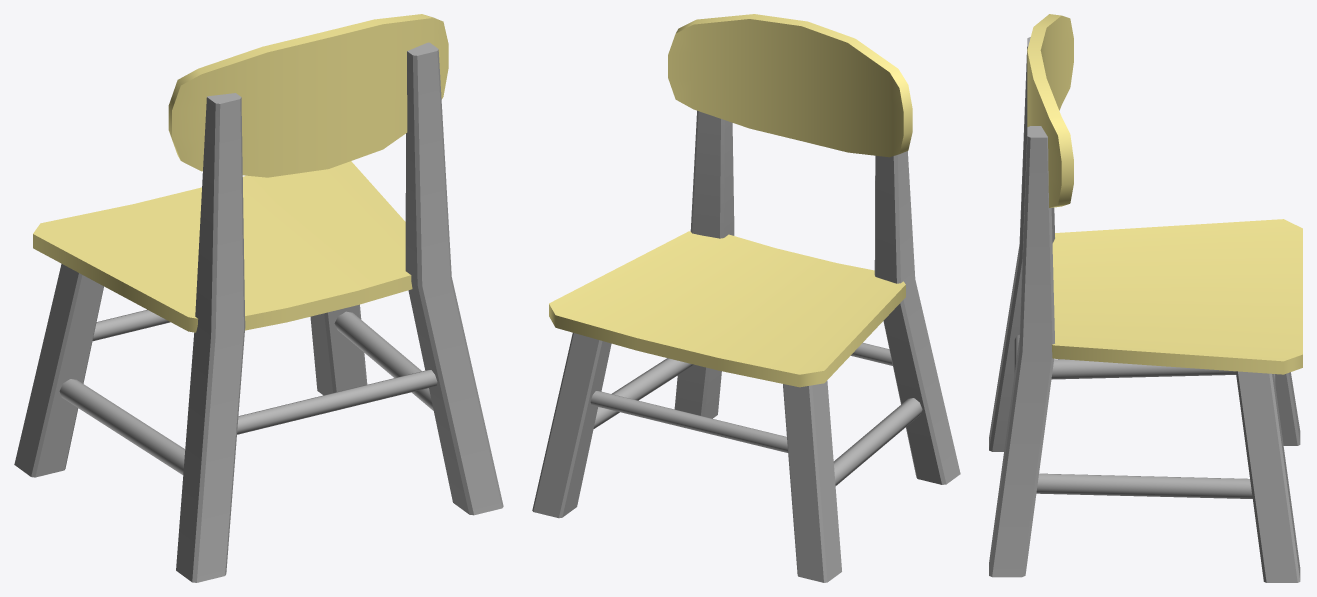
The model's file is chaise_2.fbx.
3 renders of one model, left to right at view 1: azimuth 30°, elevation 25°; view 2: azimuth 150°, elevation 25°; view 3: azimuth 270°, elevation 25°, orthographic. The views are drawn at different scales.
Visible parts, largest first — view 1: polymsh19; view 2: polymsh19; view 3: polymsh19.
Boxes of the visible parts, box(x1,y1,x2,y2) form: polymsh19: box(14, 14, 503, 582); polymsh19: box(532, 14, 960, 582); polymsh19: box(989, 14, 1302, 582).
Size of the model in its own units: 8.57 by 11.97 by 7.46.
